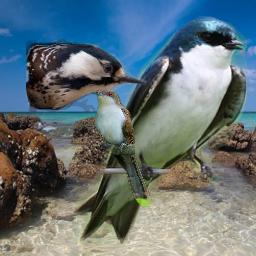Cuckoo: (91, 88, 152, 207)
Swallow: (72, 16, 247, 245)
Woodpecker: (26, 37, 147, 112)
